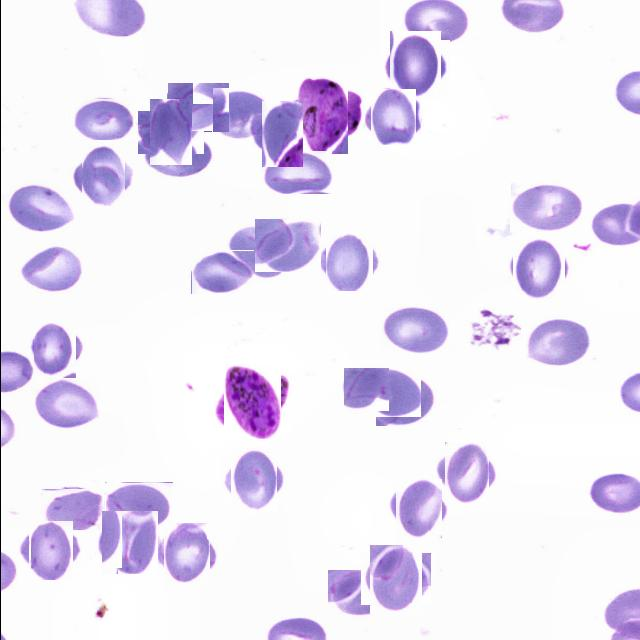red blood cell: (342, 367, 420, 417), (364, 548, 426, 610), (2, 181, 73, 233), (509, 182, 582, 232), (384, 36, 444, 96), (99, 512, 159, 572), (32, 376, 98, 430), (104, 482, 172, 534), (254, 219, 320, 272), (327, 570, 398, 619), (379, 304, 448, 354), (225, 228, 292, 279), (141, 131, 211, 179), (19, 244, 84, 294), (510, 240, 568, 296), (523, 318, 590, 366), (225, 451, 281, 507), (375, 374, 435, 426), (166, 82, 228, 132), (261, 150, 331, 194), (142, 105, 198, 160), (438, 446, 492, 501), (159, 526, 213, 580), (254, 107, 308, 161), (212, 88, 270, 138), (391, 482, 444, 535), (190, 250, 253, 294), (75, 150, 128, 202), (70, 98, 135, 140), (24, 524, 76, 576), (322, 236, 374, 288), (40, 488, 103, 530), (367, 91, 418, 142), (29, 326, 79, 375)
schizont: (219, 368, 285, 434)
trophozoite: (290, 83, 354, 147)
